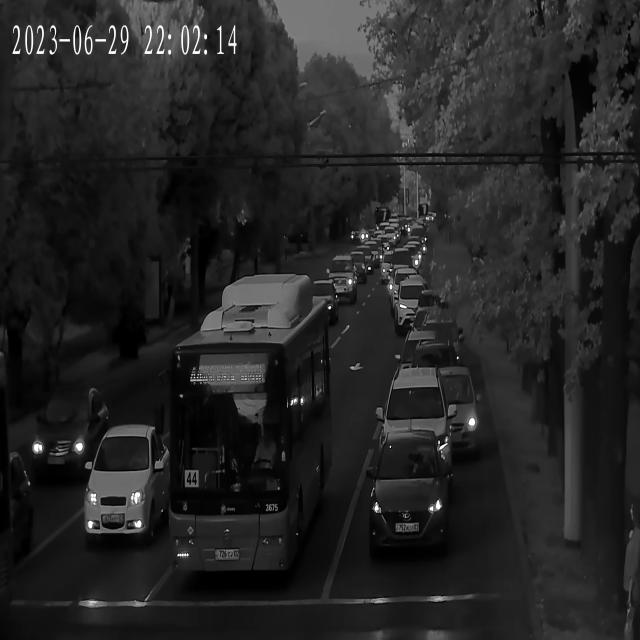Bus: (169, 272, 334, 572)
Car: (376, 359, 478, 469), (362, 435, 451, 560), (85, 428, 173, 547), (32, 387, 114, 474), (382, 430, 448, 491), (1, 452, 34, 556), (399, 340, 462, 392), (390, 282, 439, 335), (408, 319, 461, 368), (292, 279, 340, 327), (405, 302, 452, 346), (323, 257, 359, 302), (388, 268, 427, 306), (379, 248, 418, 284), (336, 253, 370, 283), (352, 244, 379, 266)
